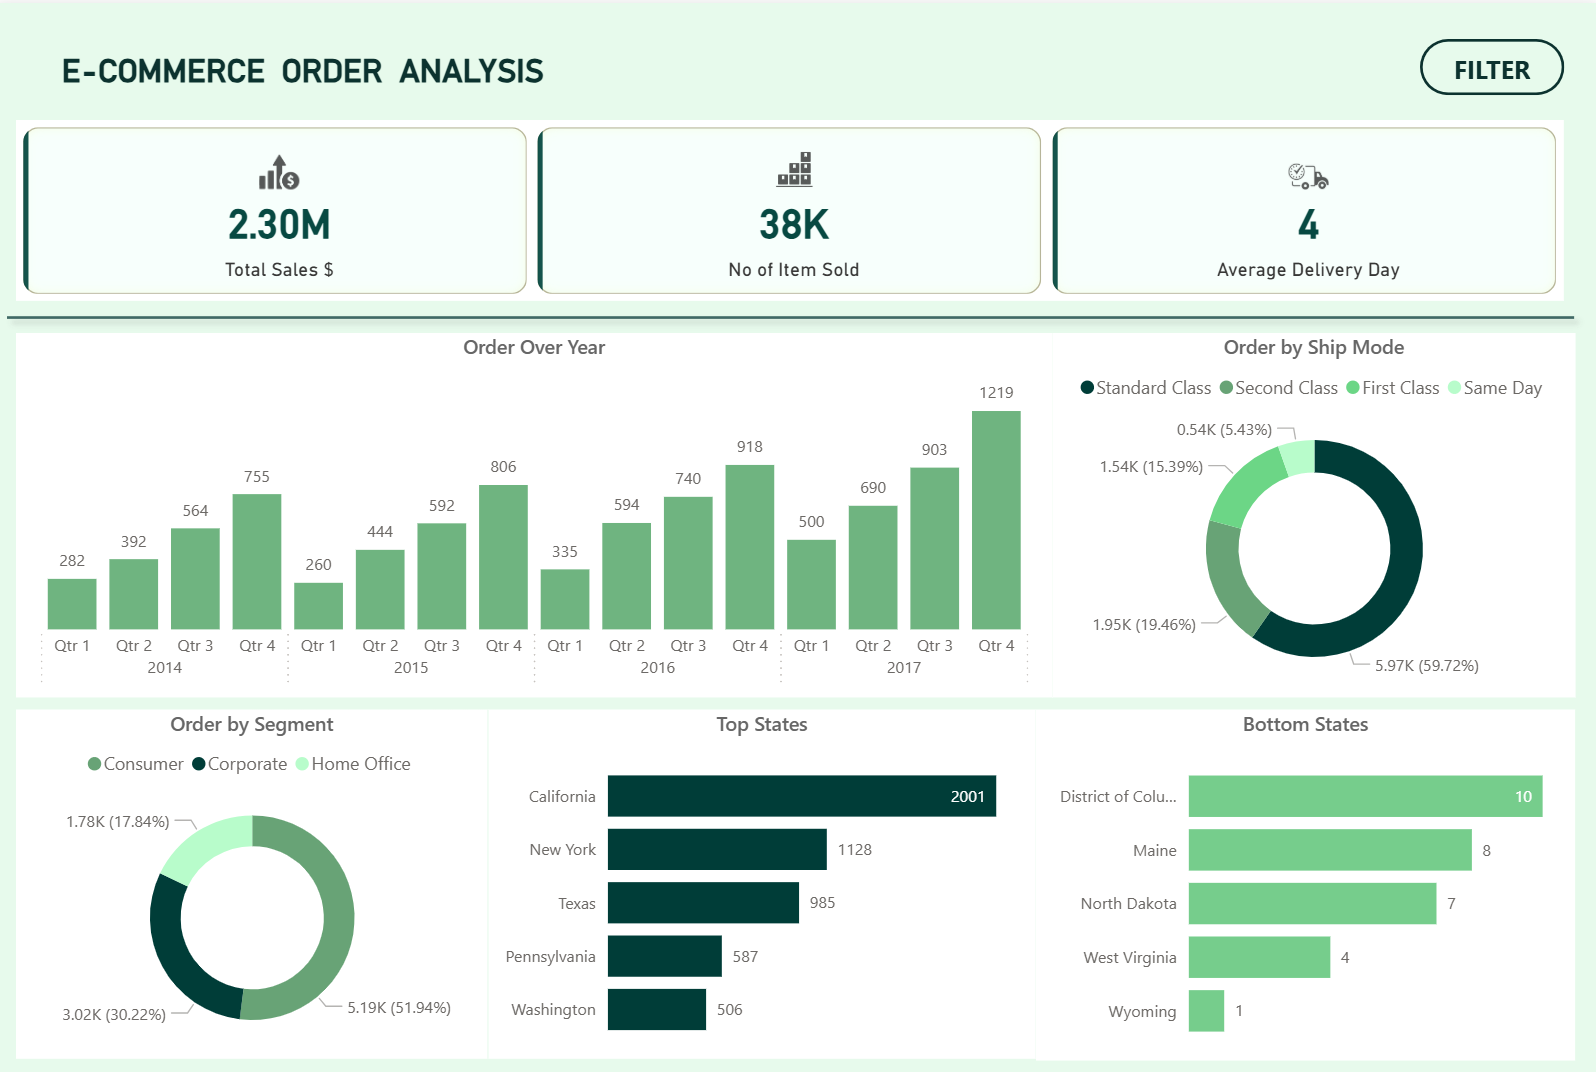

The page's visual inventory and layout, read from the dashboard file:
{"tool":"powerbi","page":{"name":"Orders","canvas":[1200,800],"ordinal":1},"visuals":[{"type":"cardVisual","fields":{"Data":["Orders_csv.Total Sales $","Orders_csv.No of Item Sold","Orders_csv.Average Delivery Day"]},"box":[15.6,87.6,1158,135.6],"z":0},{"type":"shape","box":[0,223.2,1190.4,24],"z":1000},{"type":"textbox","box":[44.4,31.2,398.4,37.2],"z":2000},{"type":"columnChart","title":"Order Over Year","fields":{"Category":["Orders_csv.Order Date.Variation.Date Hierarchy.Year","Orders_csv.Order Date.Variation.Date Hierarchy.Quarter"],"Y":["CountNonNull(Orders_csv.Order ID)"]},"box":[15.6,247.2,775.2,272.4],"z":3000},{"type":"donutChart","title":"Order by Ship Mode","fields":{"Category":["Orders_csv.Ship Mode"],"Y":["CountNonNull(Orders_csv.Order ID)"]},"box":[790.8,247.2,391.2,272.4],"z":4000},{"type":"donutChart","title":"Order by Segment","fields":{"Category":["Orders_csv.Segment"],"Y":["CountNonNull(Orders_csv.Order ID)"]},"box":[15.6,528,352.8,261.6],"z":5000},{"type":"barChart","title":"Top States","fields":{"Category":["Orders_csv.State"],"Y":["CountNonNull(Orders_csv.Order ID)"]},"box":[369.6,528,409.2,261.6],"z":6000},{"type":"barChart","title":"Bottom States","fields":{"Category":["Orders_csv.State"],"Y":["CountNonNull(Orders_csv.Order ID)"]},"box":[778.8,528,403.2,262.8],"z":7000},{"type":"actionButton","title":"Filter","box":[1065.6,26.4,108,42],"z":8000}]}

Visuals, with their boxes in screenshot pixels (x1, y1, x2, y2), scaled from the page's 1200x800 canvas onto the 1596x1072 screenshot:
cardVisual - Orders_csv.Total Sales $ x Orders_csv.No of Item Sold: x1=21, y1=117, x2=1561, y2=299
shape: x1=0, y1=299, x2=1583, y2=331
textbox: x1=59, y1=42, x2=589, y2=92
"Order Over Year" columnChart: x1=21, y1=331, x2=1052, y2=696
"Order by Ship Mode" donutChart: x1=1052, y1=331, x2=1572, y2=696
"Order by Segment" donutChart: x1=21, y1=708, x2=490, y2=1058
"Top States" barChart: x1=492, y1=708, x2=1036, y2=1058
"Bottom States" barChart: x1=1036, y1=708, x2=1572, y2=1060
"Filter" actionButton: x1=1417, y1=35, x2=1561, y2=92
